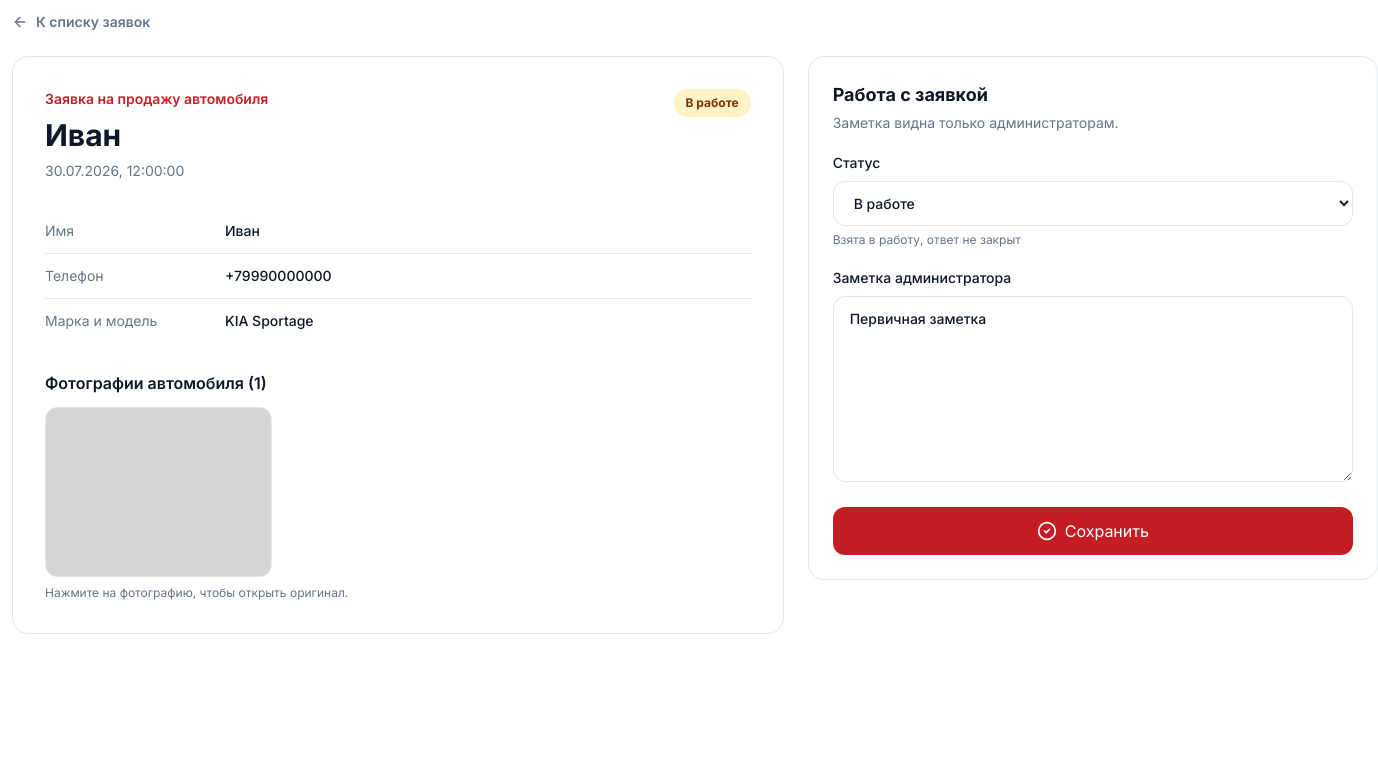
Scenario: AdminRequestDetails › persists an edited administrator note
Replace the text in the text box labelled "Заметка администратора" with "Перезвонить после обеда": (1093, 389) [833, 296, 1353, 482]
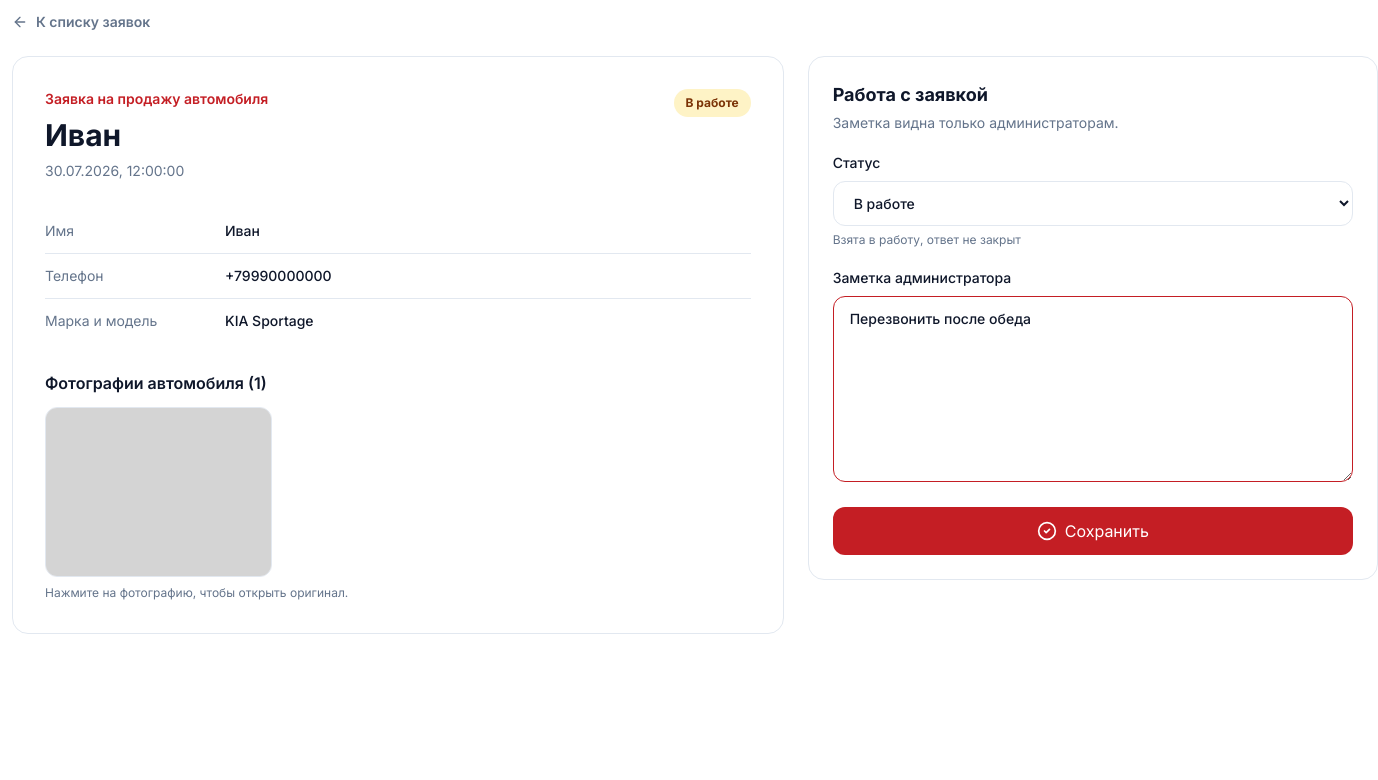
Click the button "Сохранить": (1093, 531) [833, 507, 1353, 555]
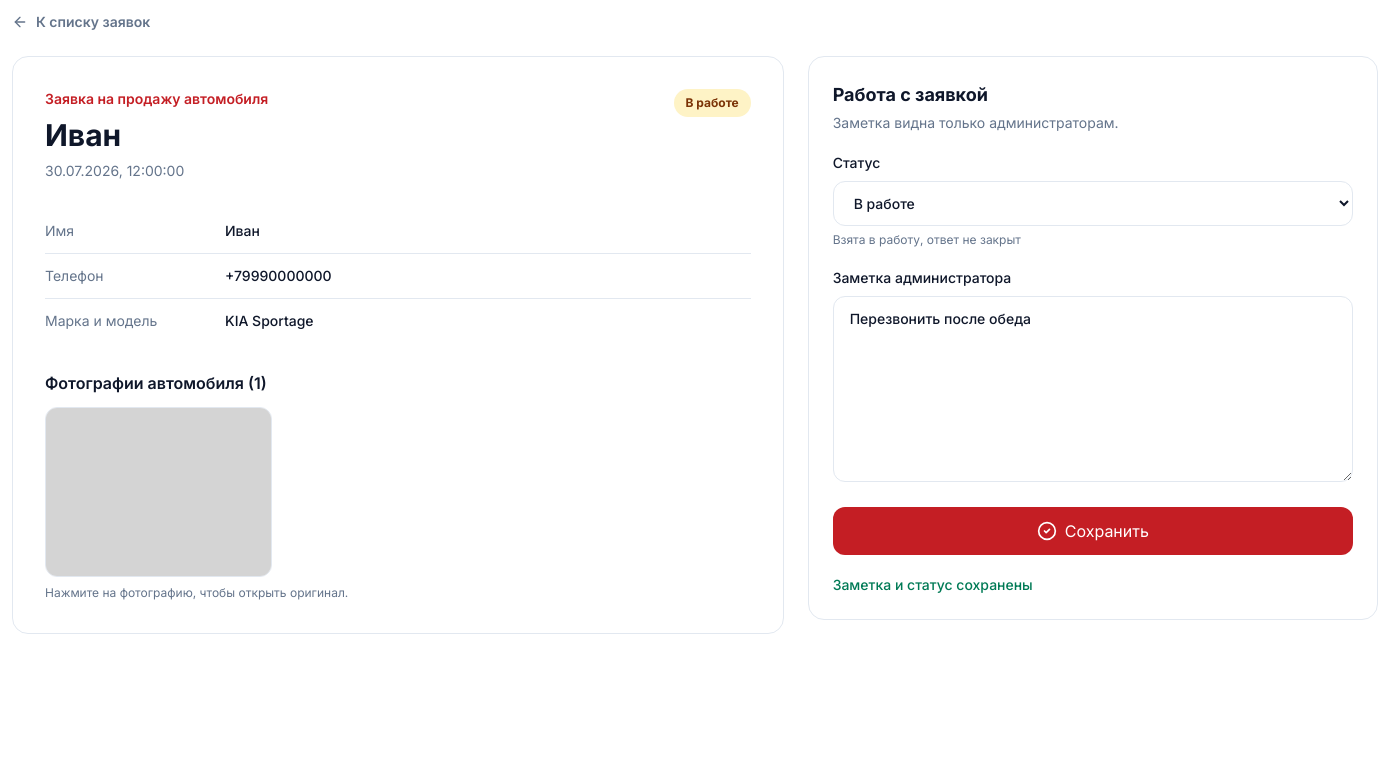
Expected: the message reads "Заметка и статус сохранены", [833, 576, 1033, 593]
